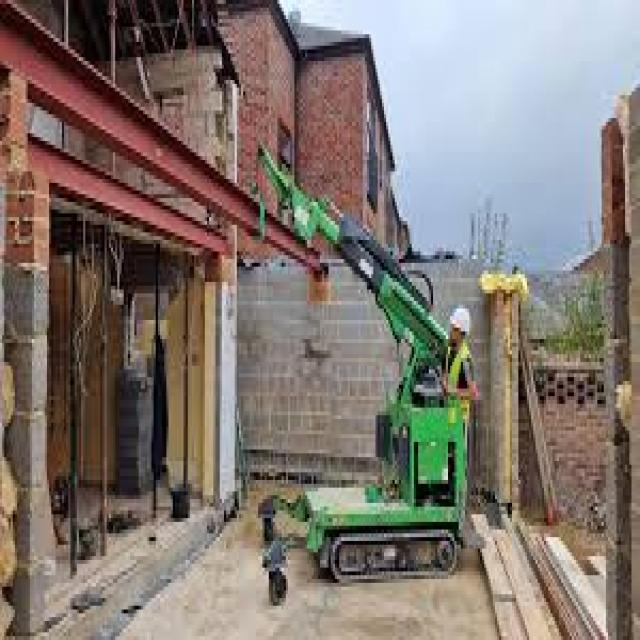steel beam: (0, 0, 320, 275), (25, 131, 229, 261)
